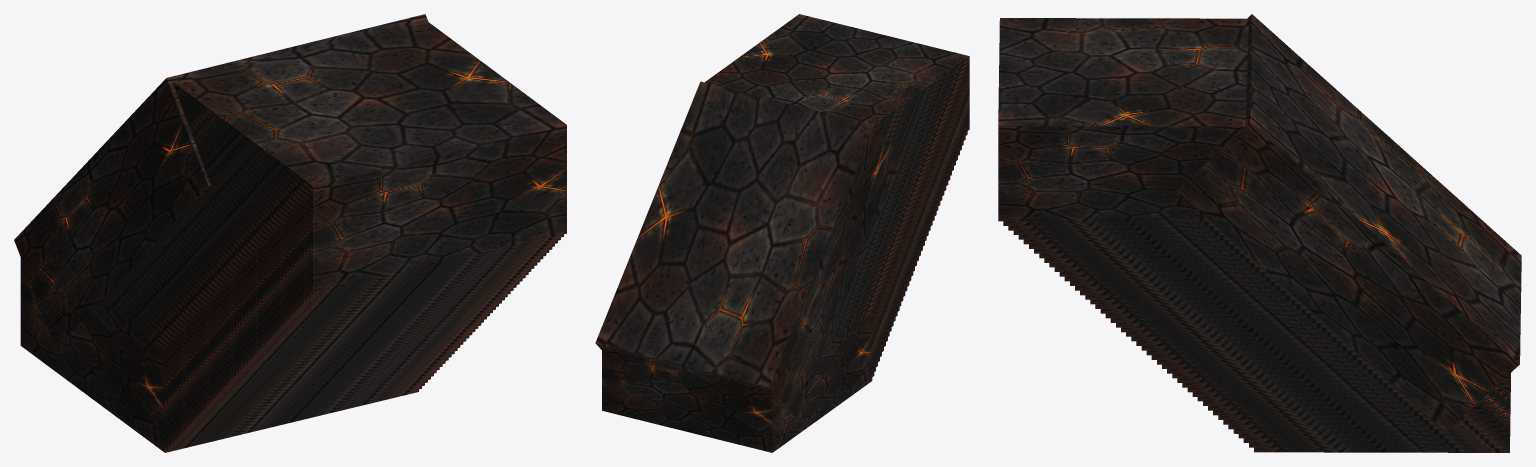
The model's file is Slope.gltf.
The picture shows the model from 3 angles, left to right: view 1: azimuth 30°, elevation 25°; view 2: azimuth 150°, elevation 25°; view 3: azimuth 270°, elevation 25°; orthographic projection. The views are drawn at different scales.
Parts seen in each view (by area): view 1: 立方体.001, COL2, 立方体.051, 立方体.003, 立方体.004, 立方体.002, 立方体.005, 立方体.006, 立方体.007, 立方体.008, 立方体.009, 立方体.010 (+40 smaller); view 2: COL2, 立方体.001, 立方体.051, 立方体.002, 立方体.003, 立方体.004, 立方体.005, 立方体.006, 立方体.012, 立方体.007, 立方体.011, 立方体.008 (+25 smaller); view 3: COL2, 立方体.001, 立方体.051, 立方体.050, 立方体.049, 立方体.047, 立方体.048, 立方体.046, 立方体.045, 立方体.044, 立方体.002, 立方体.004 (+40 smaller).
Boxes of the visible parts, x1,y1,x2,y2 form: 立方体.001: (172,21,566,294); COL2: (14,14,428,347); 立方体.051: (20,258,418,452); 立方体.003: (178,96,560,300); 立方体.004: (181,104,557,303); 立方体.002: (175,89,563,297); 立方体.005: (183,111,554,307); 立方体.006: (186,119,552,310); 立方体.007: (189,126,549,313); 立方体.008: (192,134,546,316); 立方体.009: (194,141,543,319); 立方体.010: (197,148,540,322); COL2: (595,81,902,418); 立方体.001: (705,14,969,130); 立方体.051: (602,308,872,452); 立方体.002: (839,61,967,135); 立方体.003: (845,66,965,140); 立方体.004: (850,71,963,145); 立方体.005: (856,76,961,150); 立方体.006: (884,81,959,155); 立方体.012: (894,106,950,180); 立方体.007: (886,86,957,160); 立方体.011: (896,111,948,185); 立方体.008: (888,91,955,165); COL2: (1176,14,1521,431); 立方体.001: (998,18,1255,221); 立方体.051: (1254,373,1510,452); 立方体.050: (1249,379,1504,448); 立方体.049: (1243,383,1499,443); 立方体.047: (1233,393,1489,434); 立方体.048: (1238,388,1494,438); 立方体.046: (1228,397,1484,429); 立方体.045: (1223,402,1479,425); 立方体.044: (1218,407,1473,420); 立方体.002: (1003,23,1260,226); 立方体.004: (1013,33,1270,235).
Size of the model in its own units: 10.27 by 14.29 by 20.46.
53 materials, 53 textured.
